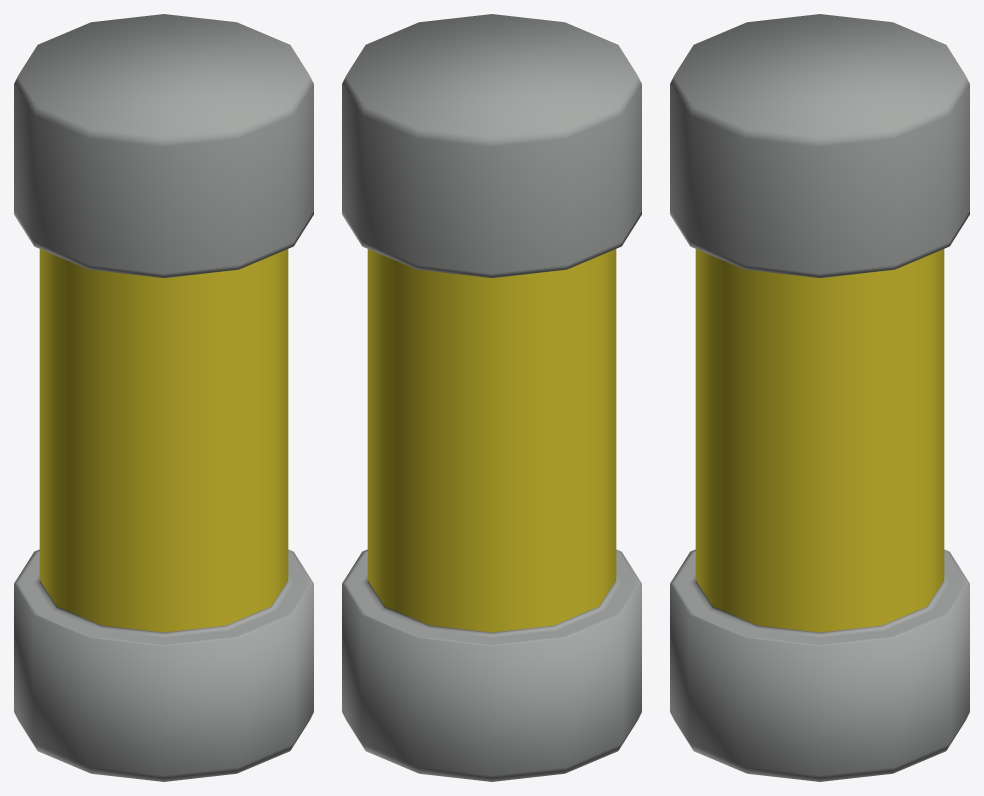
File: fuseTube.fbx
3 views of the same model, side by side, from view 1: azimuth 30°, elevation 25°; view 2: azimuth 150°, elevation 25°; view 3: azimuth 270°, elevation 25° (orthographic).
Parts seen in each view (by area): view 1: fuseTube; view 2: fuseTube; view 3: fuseTube.
Part boxes in pixels (box(x1,y1,x2,y2)): fuseTube: box(14, 14, 313, 781); fuseTube: box(342, 14, 641, 781); fuseTube: box(670, 14, 969, 781).
Size of the model in its own units: 42.44 by 101 by 42.44.
